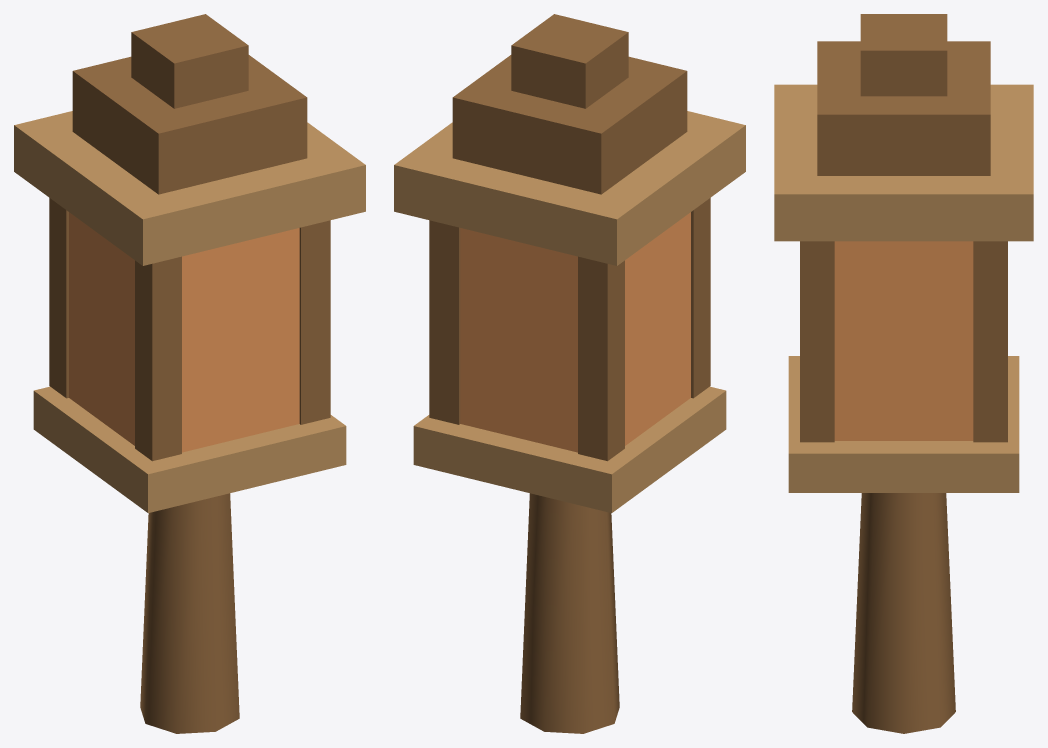
The model's file is lantern.glb.
3 views of the same model, side by side, from view 1: azimuth 30°, elevation 25°; view 2: azimuth 150°, elevation 25°; view 3: azimuth 270°, elevation 25° (orthographic).
Visible parts, largest first — view 1: lantern; view 2: lantern; view 3: lantern.
Part boxes in pixels (x1,y1,x2,y2): lantern: (14,14,365,733); lantern: (394,14,745,733); lantern: (774,14,1033,733).
Bounding box in the file's own units: 9 × 26 × 9.
